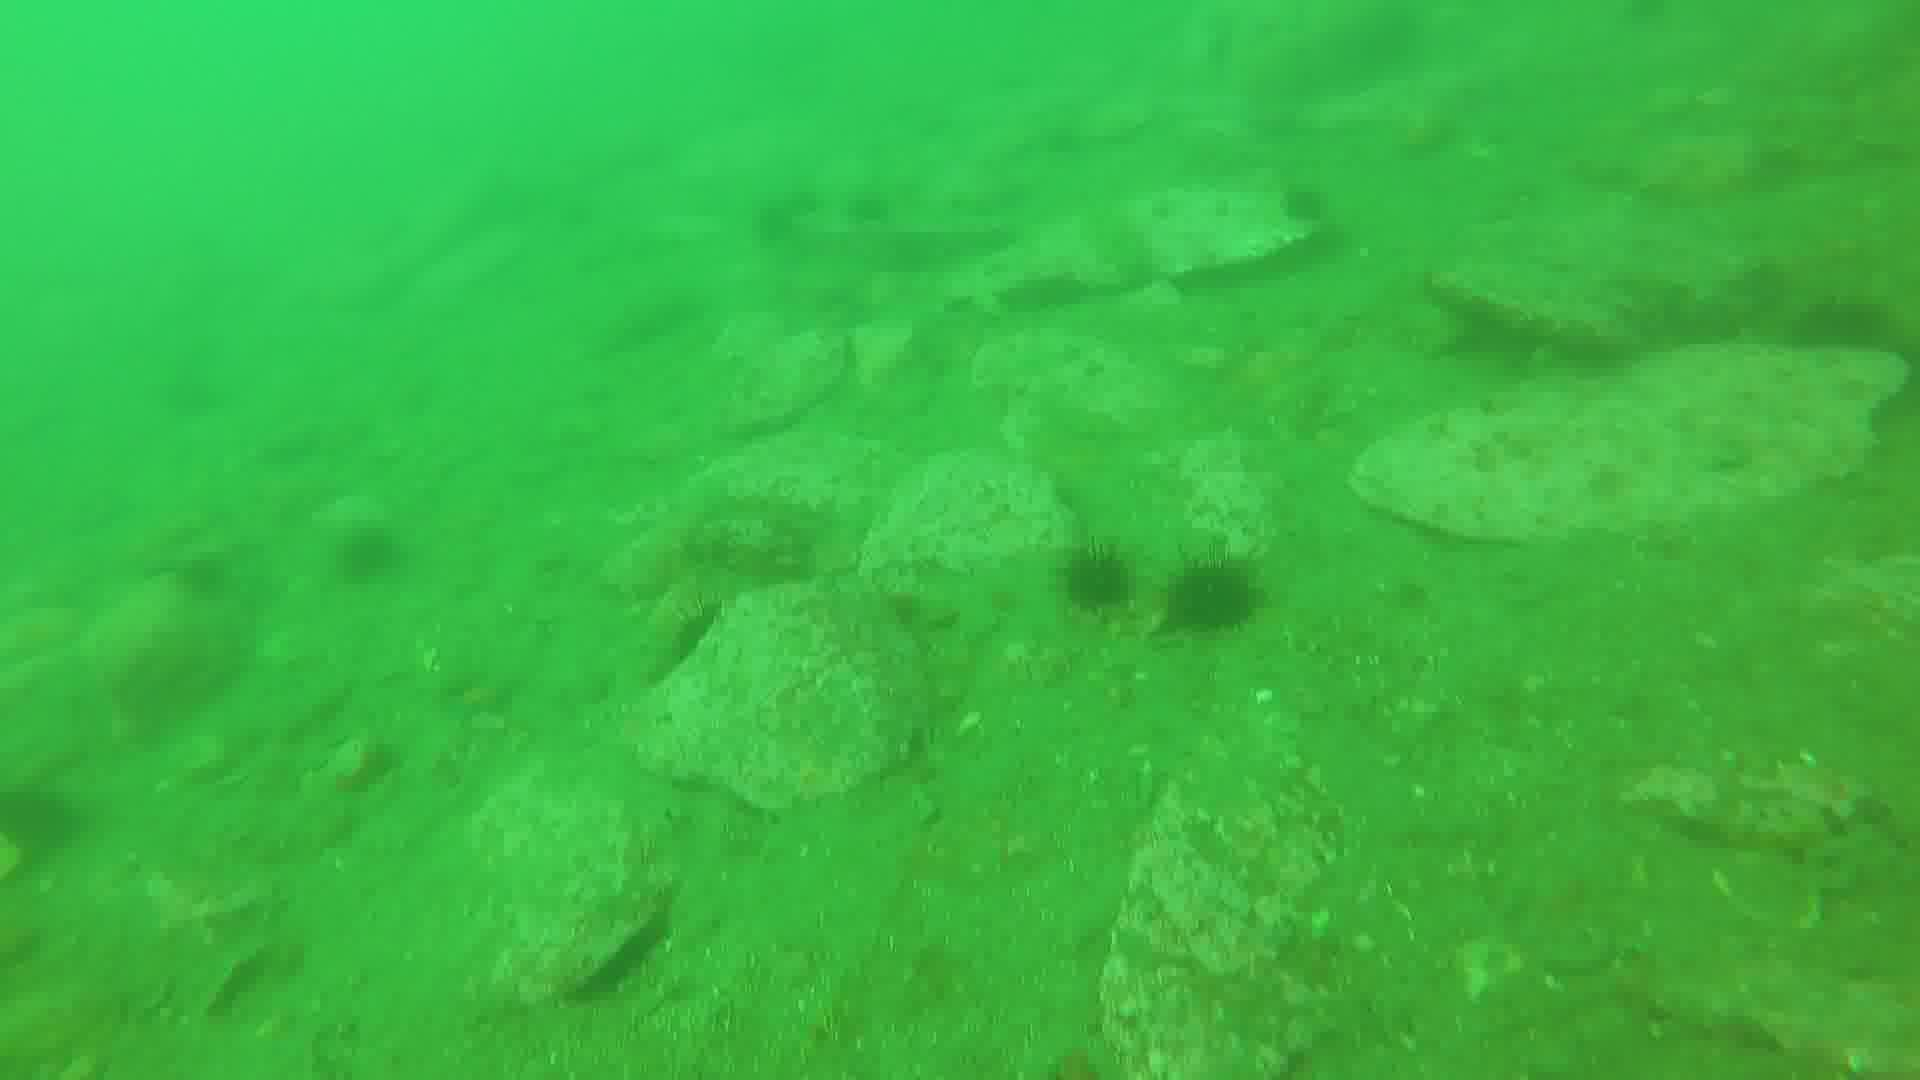echinus: (666, 597, 762, 694), (1156, 559, 1258, 636), (1065, 542, 1150, 625)
